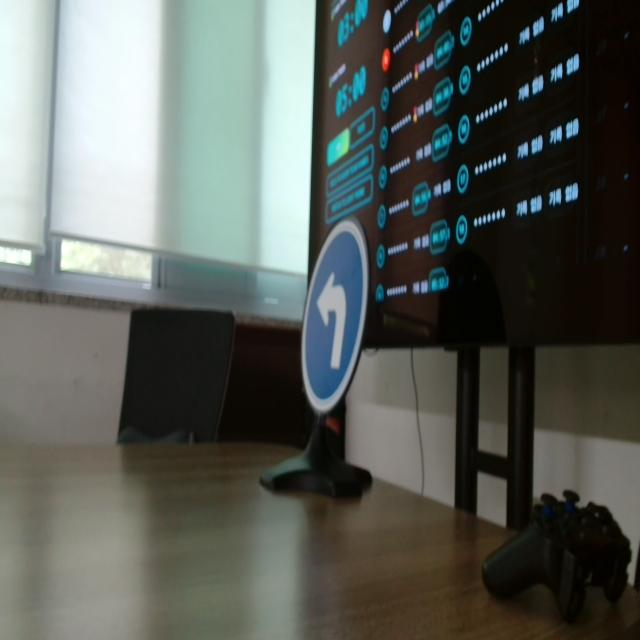left_direction: (292, 213, 370, 414)
